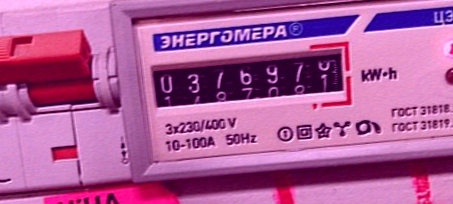0: (159, 71, 175, 94)
1: (318, 72, 332, 93)
3: (186, 71, 203, 95)
6: (237, 62, 255, 86)
7: (210, 66, 228, 90), (291, 59, 308, 83)
9: (263, 61, 281, 85)
screen: (141, 35, 359, 130)
